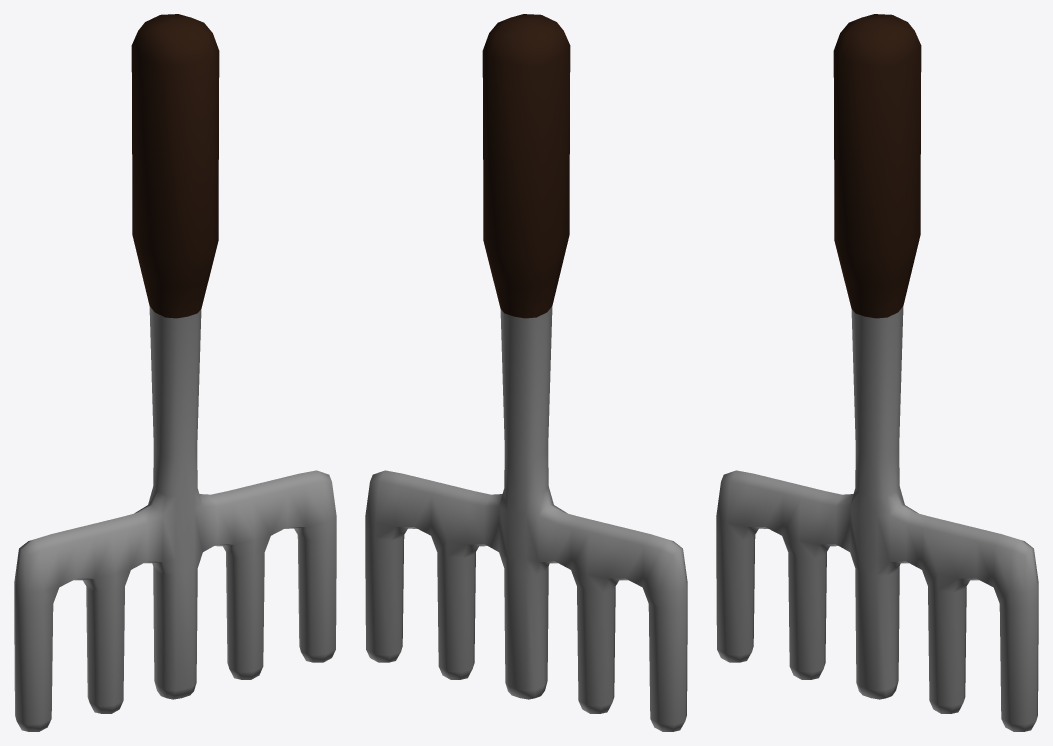
The model's file is harrow.fbx.
The picture shows the model from 3 angles, left to right: view 1: azimuth 30°, elevation 25°; view 2: azimuth 150°, elevation 25°; view 3: azimuth 330°, elevation 25°; orthographic projection.
Parts seen in each view (by area): view 1: harrow; view 2: harrow; view 3: harrow.
Part boxes in pixels (x1,y1,x2,y2): harrow: (14, 14, 336, 731); harrow: (365, 14, 687, 731); harrow: (716, 14, 1038, 731).
Size of the model in its own units: 0.1642 by 0.3329 by 0.0422.
